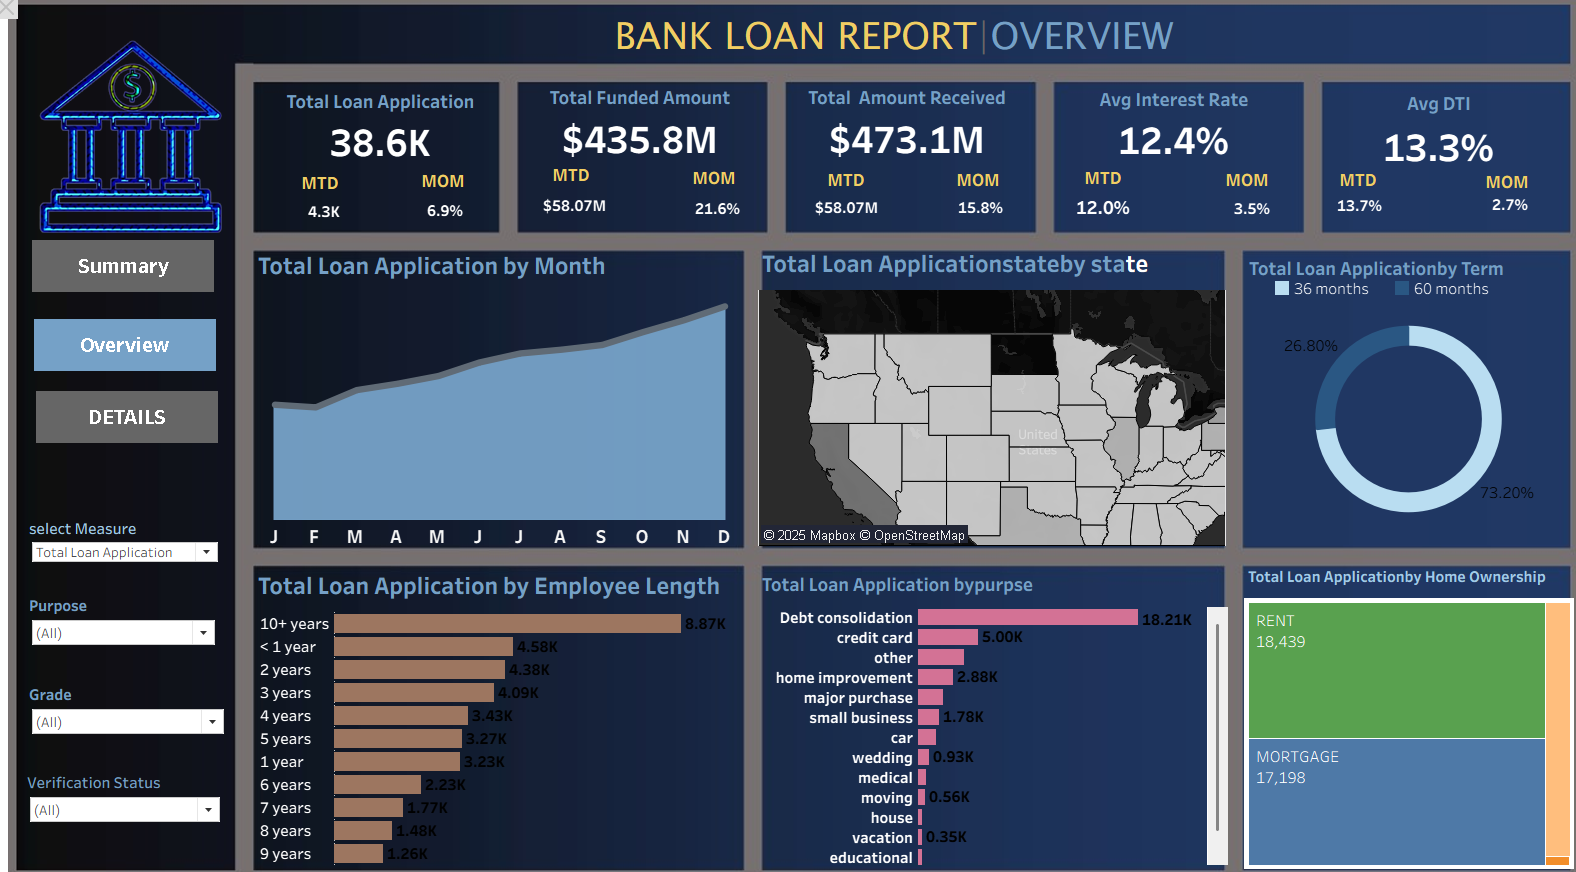

The page's visual inventory and layout, read from the dashboard file:
{"tool":"tableau","page":{"name":"overview","canvas":[1600,900],"ordinal":2},"visuals":[{"type":"dashboard-object","box":[0,8,24,24]},{"type":"image","param":"D:/photos/Tableau Background 2.jpg","box":[8,8,1584,884]},{"type":"text","box":[617,19,575,61]},{"type":"worksheet","title":"Total Funded Amount","mark":"Automatic","box":[523,93,246,77]},{"type":"worksheet","title":"Total  Amount Received","mark":"Automatic","box":[790,93,246,77]},{"type":"worksheet","title":"MTD Avg INT Rate","mark":"Automatic","box":[1055,95,250,75]},{"type":"worksheet","title":"Total Loan Application","mark":"Automatic","box":[265,97,243,75]},{"type":"worksheet","title":"Avg DTI","mark":"Automatic","box":[1325,99,240,81]},{"type":"text","box":[527,172,100,30]},{"type":"text","box":[670,175,100,30]},{"type":"text","box":[1059,175,100,30]},{"type":"text","box":[398,177,102,32]},{"type":"text","box":[802,177,100,30]},{"type":"text","box":[934,177,100,30]},{"type":"text","box":[1203,177,100,30]},{"type":"text","box":[1314,177,100,30]},{"type":"text","box":[1463,179,100,30]},{"type":"text","box":[276,180,100,30]},{"type":"worksheet","title":"MTD Total Funded Amount","mark":"Automatic","box":[538,201,87,35]},{"type":"worksheet","title":"MOM avg DTI","mark":"Automatic","box":[1475,203,83,30]},{"type":"worksheet","title":"MOM  Total Amount Recevied","mark":"Automatic","box":[948,204,78,34]},{"type":"worksheet","title":"MTD Avg DTI","mark":"Automatic","box":[1328,204,75,30]},{"type":"worksheet","title":"MTD Total Amount Recevied","mark":"Automatic","box":[784,205,139,31]},{"type":"worksheet","title":"Avg Interest Rate","mark":"Automatic","box":[1062,205,94,31]},{"type":"worksheet","title":"MOM Loan Applications","mark":"Automatic","box":[407,206,89,36]},{"type":"worksheet","title":"MTD Total Loan Application","mark":"Automatic","box":[267,207,126,36]},{"type":"worksheet","title":"MOM AVG int Rate","mark":"Automatic","box":[1217,207,83,29]},{"type":"worksheet","title":"MOM Total Funded Amount","mark":"Automatic","box":[685,208,78,28]},{"type":"worksheet","title":"state","mark":"Multipolygon","box":[764,256,468,303]},{"type":"worksheet","title":"mouth","mark":"Area","rows":["Calculation_1238208476550385664","Calculation_1238208476550385664"],"cols":["issue_date"],"box":[260,258,491,304]},{"type":"worksheet","title":"Sheet 29","mark":"Pie","rows":["Calculation_1165024983198695427","Calculation_1165024983198732293"],"box":[1251,264,327,296]},{"type":"legend","title":"Sheet 29","param":"[federated.1hbrnce1x73st8143nhxq0bro3fb].[none:term:nk]","box":[1278,291,243,37]},{"type":"parameter","param":"[Parameters].[Parameter 1]","box":[35,531,192,47]},{"type":"worksheet","title":"Home Own","mark":"Automatic","box":[1250,575,330,307]},{"type":"worksheet","title":"emp length","mark":"Automatic","rows":["emp_length"],"cols":["Calculation_1238208476550385664"],"box":[260,578,493,303]},{"type":"worksheet","title":"purpose","mark":"Automatic","rows":["purpose"],"cols":["Calculation_1238208476550385664"],"box":[764,580,470,298]},{"type":"filter","title":"Avg DTI","param":"[federated.1hbrnce1x73st8143nhxq0bro3fb].[none:purpose:nk]","box":[37,608,189,54]},{"type":"filter","title":"Avg DTI","param":"[federated.1hbrnce1x73st8143nhxq0bro3fb].[none:grade:nk]","box":[35,697,198,56]},{"type":"filter","title":"Avg DTI","param":"[federated.1hbrnce1x73st8143nhxq0bro3fb].[none:verification_status:nk]","box":[33,785,196,63]}]}

Visuals, with their boxes in screenshot pixels (x1, y1, x2, y2), scaled from the page's 1600x900 canvas onto the 1576x872 screenshot:
dashboard-object: l=0, t=8, r=24, b=31
image: l=8, t=8, r=1568, b=864
text: l=608, t=18, r=1174, b=78
"Total Funded Amount" worksheet: l=515, t=90, r=757, b=165
"Total  Amount Received" worksheet: l=778, t=90, r=1020, b=165
"MTD Avg INT Rate" worksheet: l=1039, t=92, r=1285, b=165
"Total Loan Application" worksheet: l=261, t=94, r=500, b=167
"Avg DTI" worksheet: l=1305, t=96, r=1542, b=174
text: l=519, t=167, r=618, b=196
text: l=660, t=170, r=758, b=199
text: l=1043, t=170, r=1142, b=199
text: l=392, t=171, r=492, b=202
text: l=790, t=171, r=888, b=201
text: l=920, t=171, r=1018, b=201
text: l=1185, t=171, r=1283, b=201
text: l=1294, t=171, r=1393, b=201
text: l=1441, t=173, r=1540, b=202
text: l=272, t=174, r=370, b=203
"MTD Total Funded Amount" worksheet: l=530, t=195, r=616, b=229
"MOM avg DTI" worksheet: l=1453, t=197, r=1535, b=226
"MOM  Total Amount Recevied" worksheet: l=934, t=198, r=1011, b=231
"MTD Avg DTI" worksheet: l=1308, t=198, r=1382, b=227
"MTD Total Amount Recevied" worksheet: l=772, t=199, r=909, b=229
"Avg Interest Rate" worksheet: l=1046, t=199, r=1139, b=229
"MOM Loan Applications" worksheet: l=401, t=200, r=489, b=234
"MTD Total Loan Application" worksheet: l=263, t=201, r=387, b=235
"MOM AVG int Rate" worksheet: l=1199, t=201, r=1280, b=229
"MOM Total Funded Amount" worksheet: l=675, t=202, r=752, b=229
"state" worksheet (Multipolygon marks): l=753, t=248, r=1214, b=542
"mouth" worksheet (Area marks): l=256, t=250, r=740, b=545
"Sheet 29" worksheet (Pie marks): l=1232, t=256, r=1554, b=543
"Sheet 29" legend: l=1259, t=282, r=1498, b=318
parameter: l=34, t=514, r=224, b=560
"Home Own" worksheet: l=1231, t=557, r=1556, b=855
"emp length" worksheet: l=256, t=560, r=742, b=854
"purpose" worksheet: l=753, t=562, r=1215, b=851
"Avg DTI" filter: l=36, t=589, r=223, b=641
"Avg DTI" filter: l=34, t=675, r=230, b=730
"Avg DTI" filter: l=33, t=761, r=226, b=822
